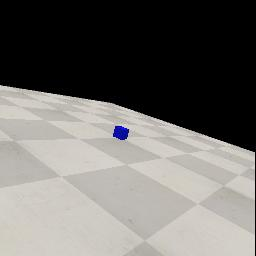box: (113, 126, 129, 140)
